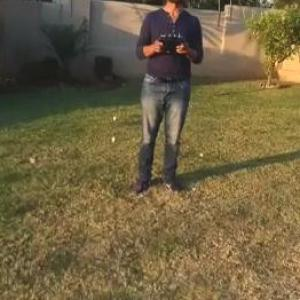follow: (124, 0, 209, 209)
